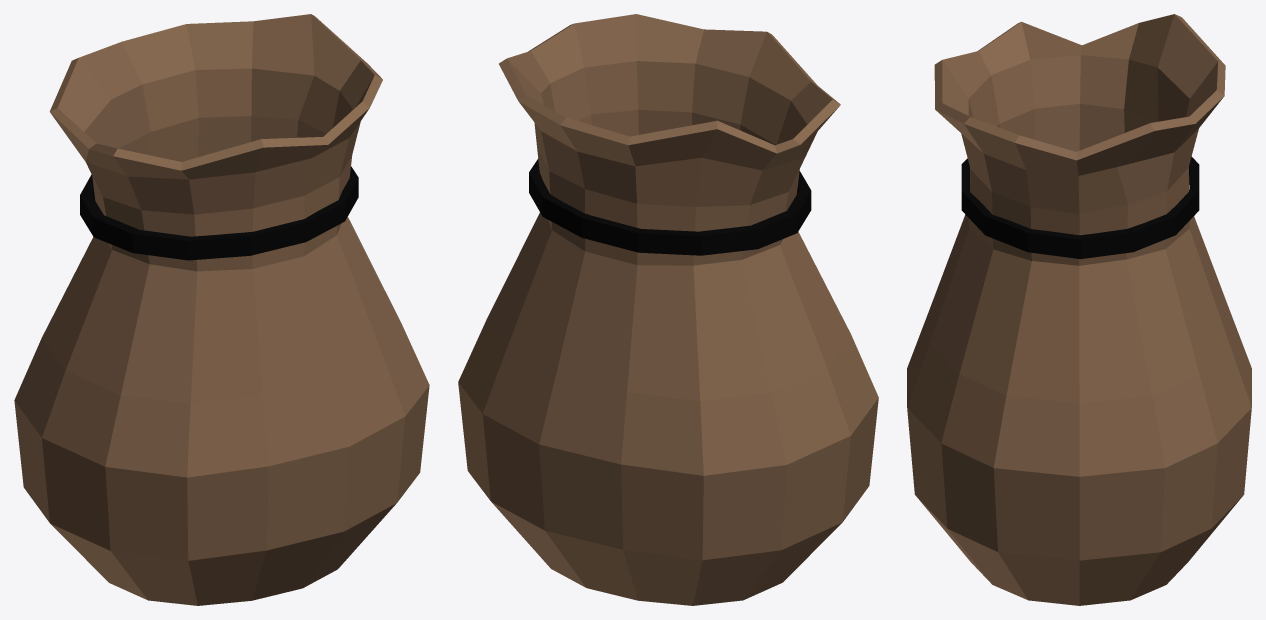
Rendered from PP_Money_Bag_Empty_03.fbx.
3 renders of one model, left to right at view 1: azimuth 30°, elevation 25°; view 2: azimuth 150°, elevation 25°; view 3: azimuth 270°, elevation 25°, orthographic.
Visible parts, largest first — view 1: PP_Money_Bag_Empty_03; view 2: PP_Money_Bag_Empty_03; view 3: PP_Money_Bag_Empty_03.
Boxes of the visible parts, x1,y1,x2,y2 form: PP_Money_Bag_Empty_03: [14, 14, 429, 605]; PP_Money_Bag_Empty_03: [458, 14, 878, 605]; PP_Money_Bag_Empty_03: [907, 14, 1251, 605].
Bounding box in the file's own units: 57.18 × 73.22 × 46.84.
